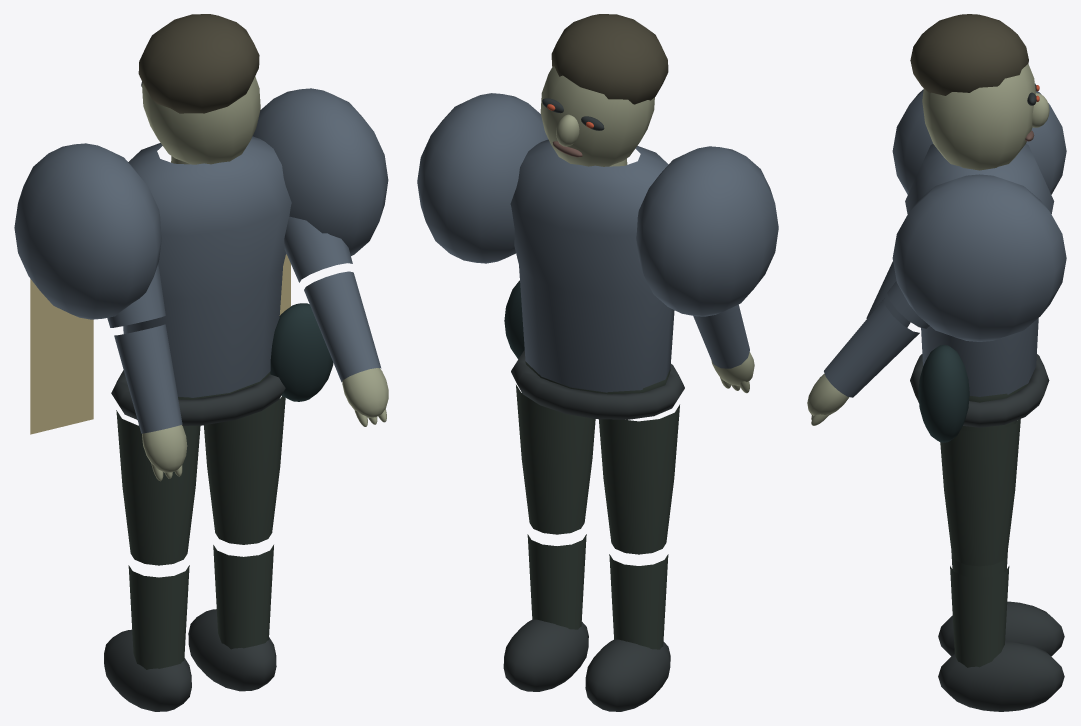
File: boss-1.glb
3 views of the same model, side by side, from view 1: azimuth 30°, elevation 25°; view 2: azimuth 150°, elevation 25°; view 3: azimuth 270°, elevation 25° (orthographic). The views are drawn at different scales.
Parts seen in each view (by area): view 1: object 1, object 15, head, object 19, kneeR, kneeL, legR, legL, object 18, elbowR, elbowL, object 14 (+4 smaller); view 2: object 1, object 15, object 19, head, legL, kneeL, kneeR, legR, object 3, elbowL, object 14; view 3: object 19, head, kneeR, legR, object 1, elbowR, object 15, object 14, kneeL, object 3, elbowL, armR.
Boxes of the visible parts, x1,y1,x2,y2 form: object 1: [123, 136, 291, 397]; object 15: [14, 143, 161, 319]; head: [138, 14, 260, 164]; object 19: [253, 88, 388, 255]; kneeR: [188, 545, 276, 691]; kneeL: [104, 565, 191, 711]; legR: [204, 396, 285, 544]; legL: [116, 410, 200, 565]; object 18: [30, 314, 93, 434]; elbowR: [304, 271, 388, 426]; elbowL: [114, 324, 187, 481]; object 14: [270, 303, 333, 401]; object 1: [510, 139, 674, 392]; object 15: [636, 146, 778, 316]; object 19: [417, 93, 548, 263]; head: [540, 14, 668, 166]; legL: [598, 404, 679, 554]; kneeL: [585, 554, 670, 711]; kneeR: [503, 534, 588, 691]; legR: [516, 385, 595, 534]; object 3: [511, 350, 684, 419]; elbowL: [693, 304, 754, 393]; object 14: [504, 280, 524, 359]; object 19: [892, 174, 1066, 341]; head: [910, 14, 1049, 170]; kneeR: [938, 566, 1064, 711]; legR: [940, 419, 1020, 566]; object 1: [905, 144, 1054, 396]; elbowR: [807, 298, 919, 425]; object 15: [892, 89, 1066, 194]; object 14: [918, 345, 969, 442]; kneeL: [938, 551, 1064, 656]; object 3: [910, 354, 1049, 427]; elbowL: [866, 261, 910, 327]; armR: [887, 281, 929, 328].
Size of the model in its own units: 0.98 by 1.86 by 0.6556.
